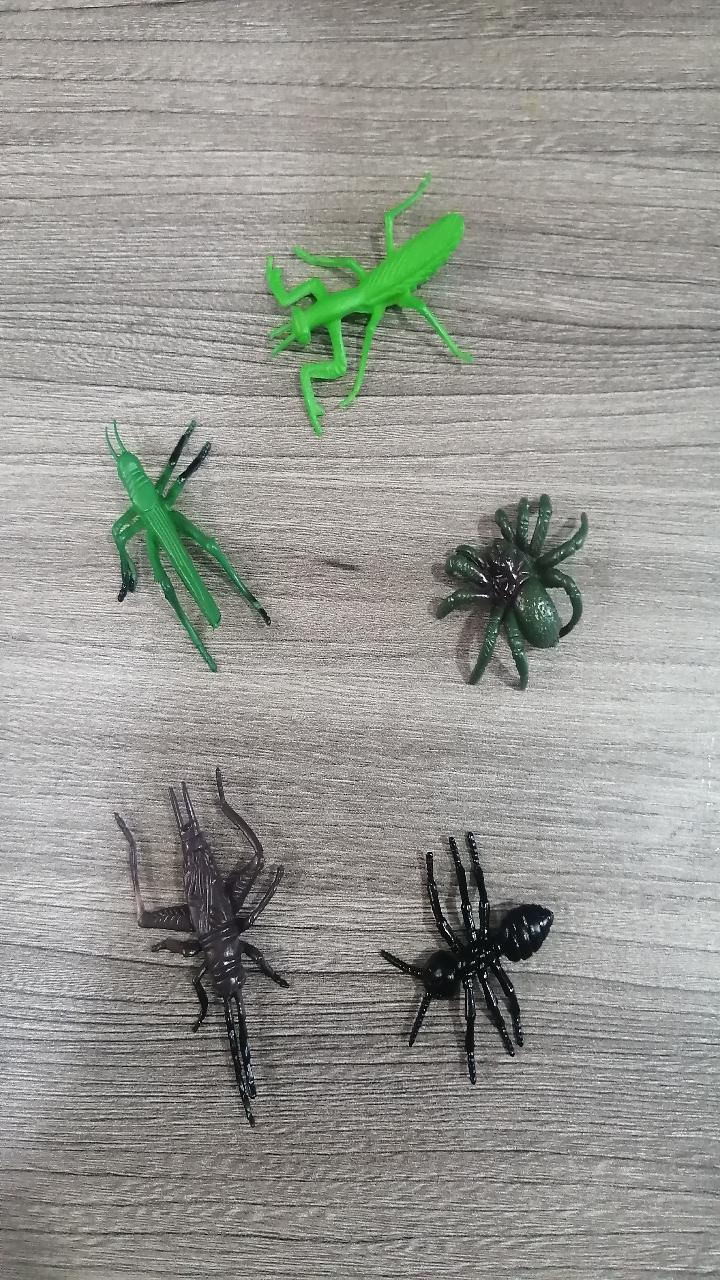intruso: (84, 732, 320, 1143), (218, 132, 504, 446), (54, 385, 288, 706), (355, 794, 581, 1108), (403, 466, 618, 719)
